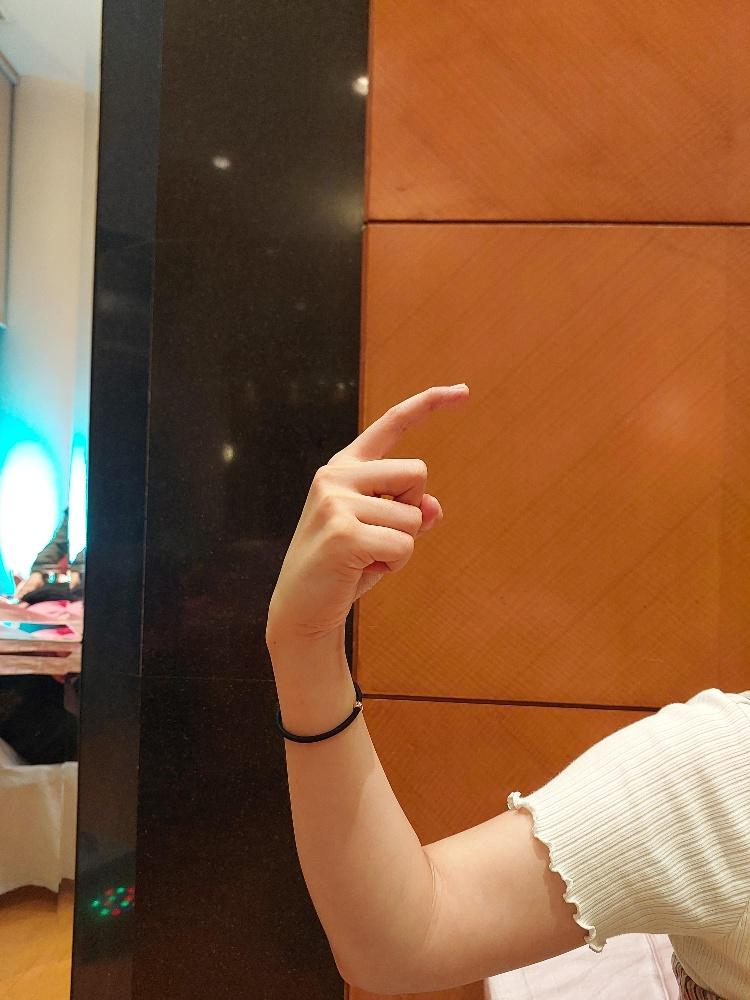x: (274, 379, 471, 643)
